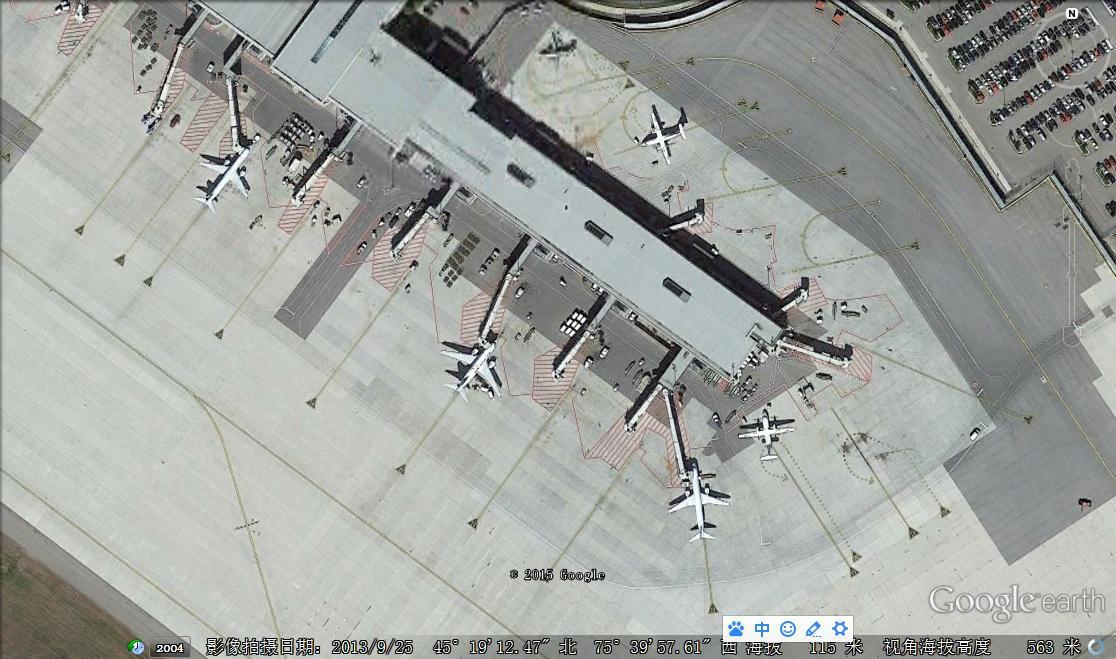aircraft: (668, 463, 735, 549), (436, 341, 505, 406), (191, 146, 254, 212), (733, 409, 796, 465), (639, 107, 691, 168)
